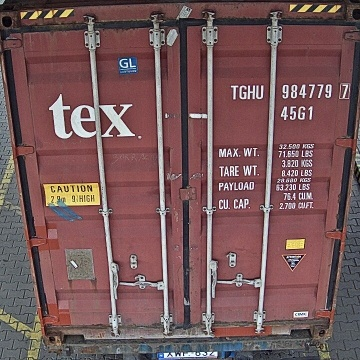serial_id: (231, 83, 350, 99)
